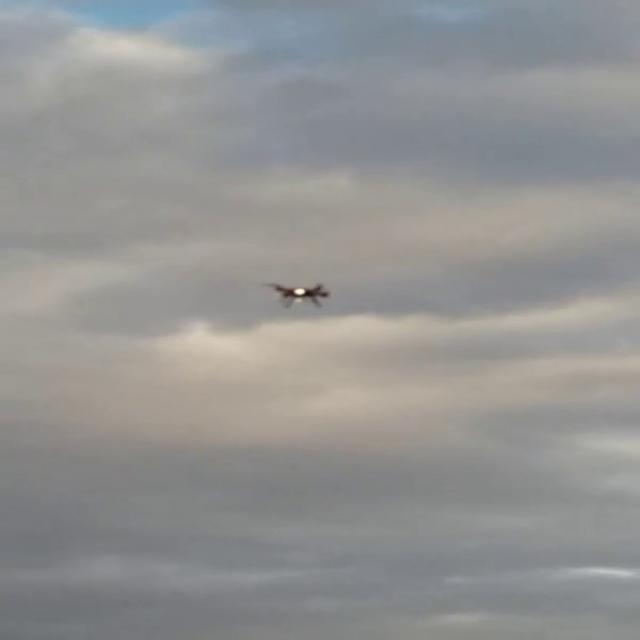drone: (269, 278, 335, 312)
